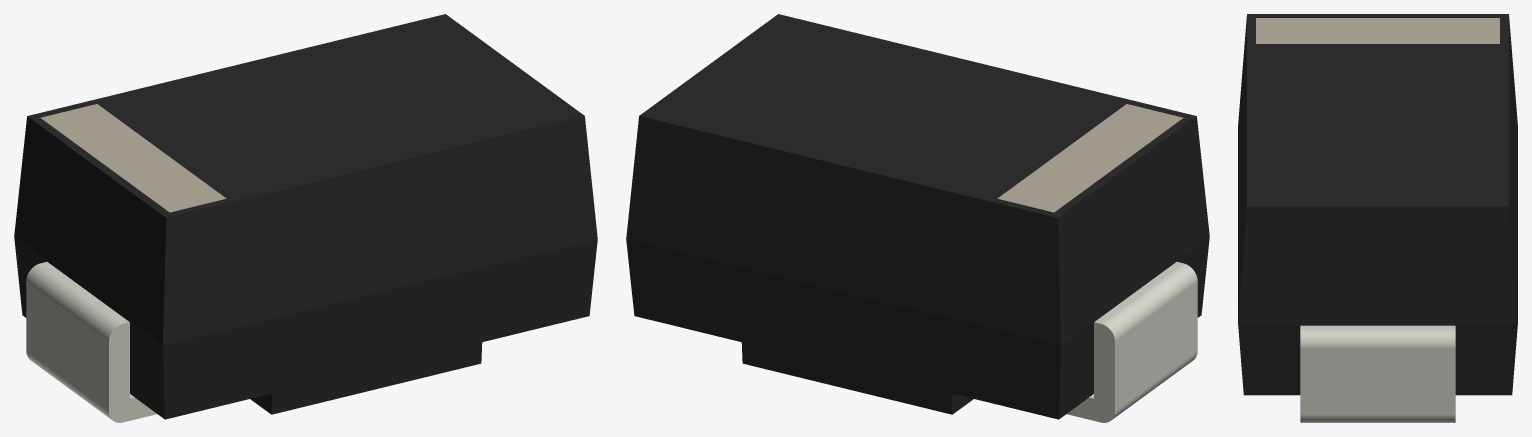
File: d_sma.glb
3 renders of one model, left to right at view 1: azimuth 30°, elevation 25°; view 2: azimuth 150°, elevation 25°; view 3: azimuth 270°, elevation 25°, orthographic. The views are drawn at different scales.
Parts seen in each view (by area): view 1: diode_ss34; view 2: diode_ss34; view 3: diode_ss34.
Boxes of the visible parts, box(x1,y1,x2,y2) form: diode_ss34: box(14, 14, 597, 422); diode_ss34: box(626, 14, 1209, 422); diode_ss34: box(1238, 14, 1517, 422).
Bounding box in the file's own units: 0.005 × 0.00222 × 0.0027.
